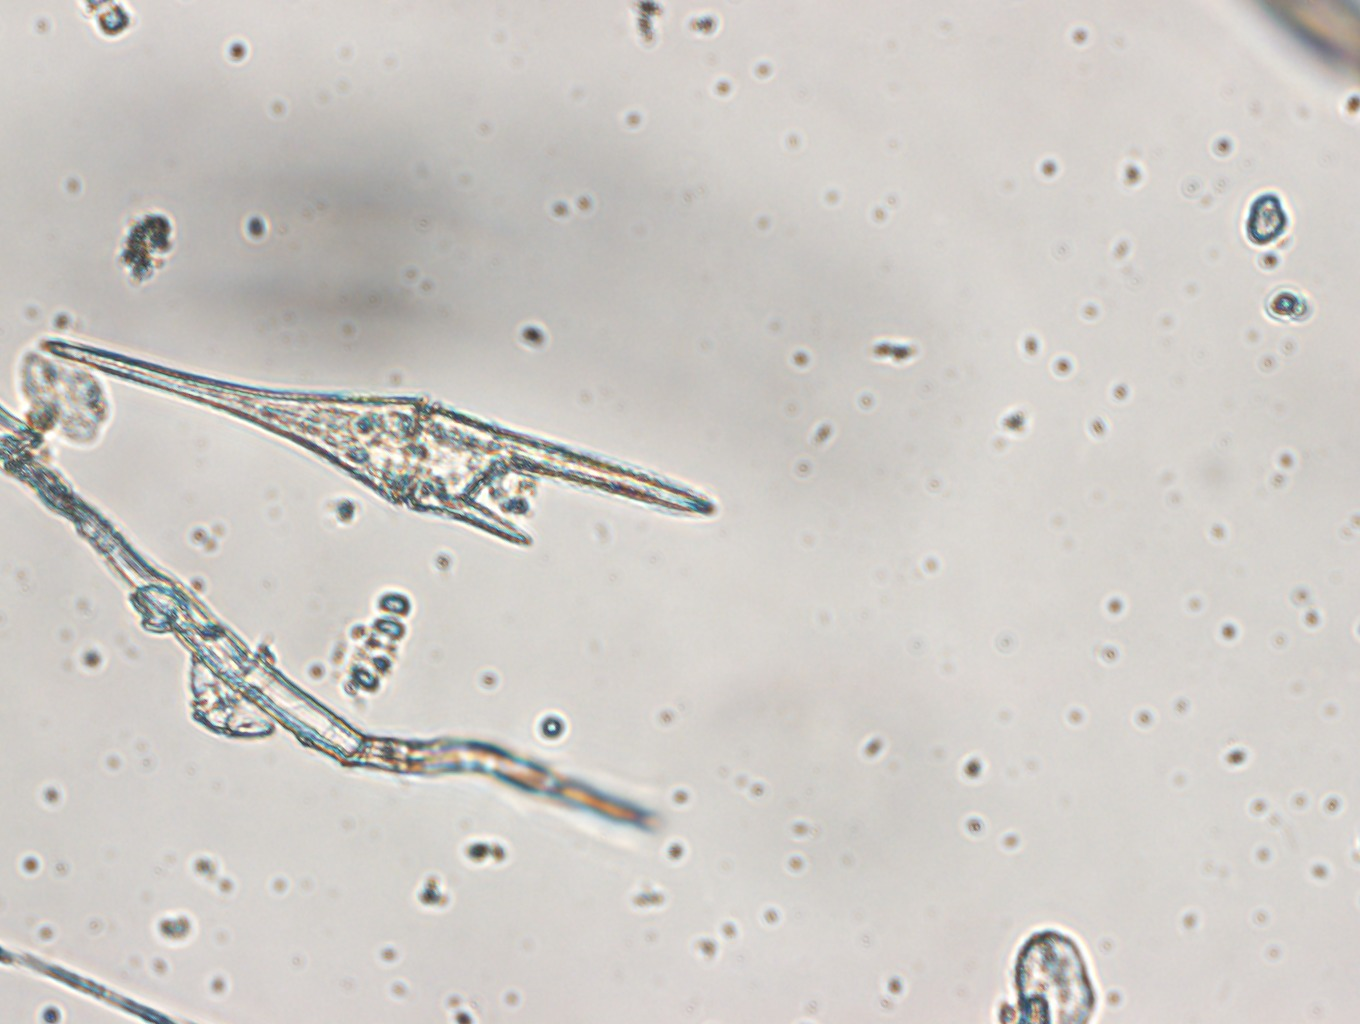ceratium furca: (28, 332, 727, 551)
